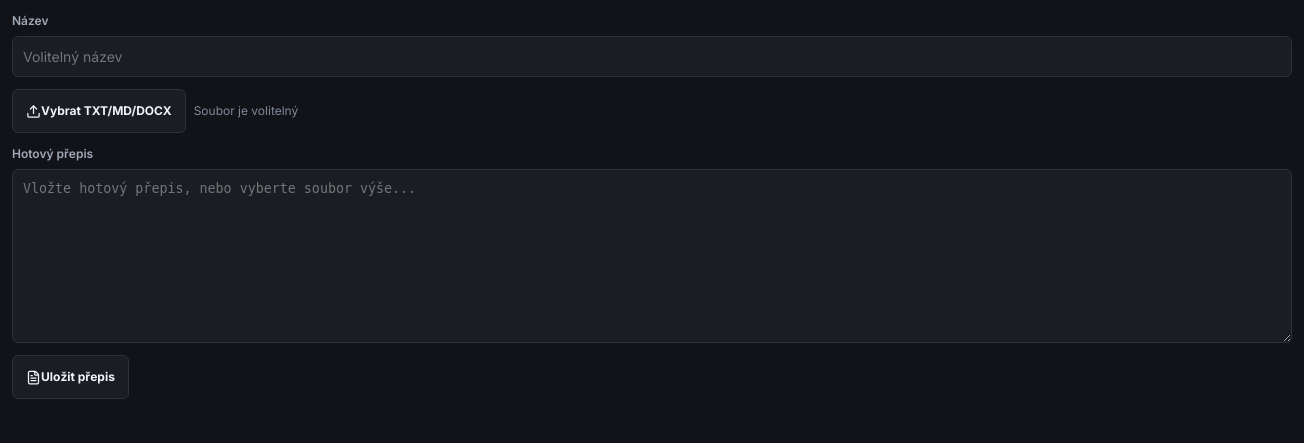
Test: transcript search warning contract › keeps an imported transcript successful and carries its warning to the detail
Type "Uložený přepis" into the text box named "rawText" at point(652, 256), box [12,169,1292,343]
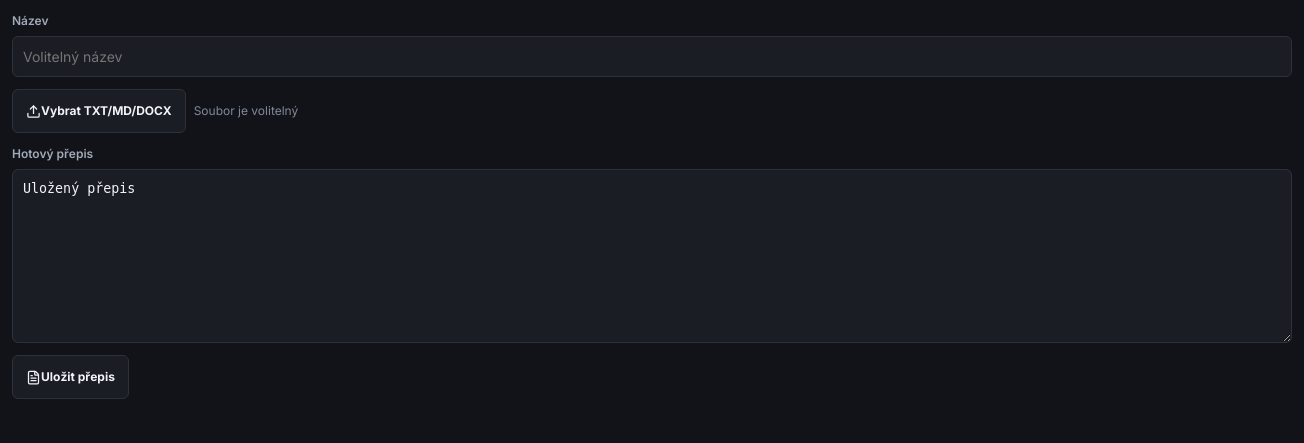
Submit the form
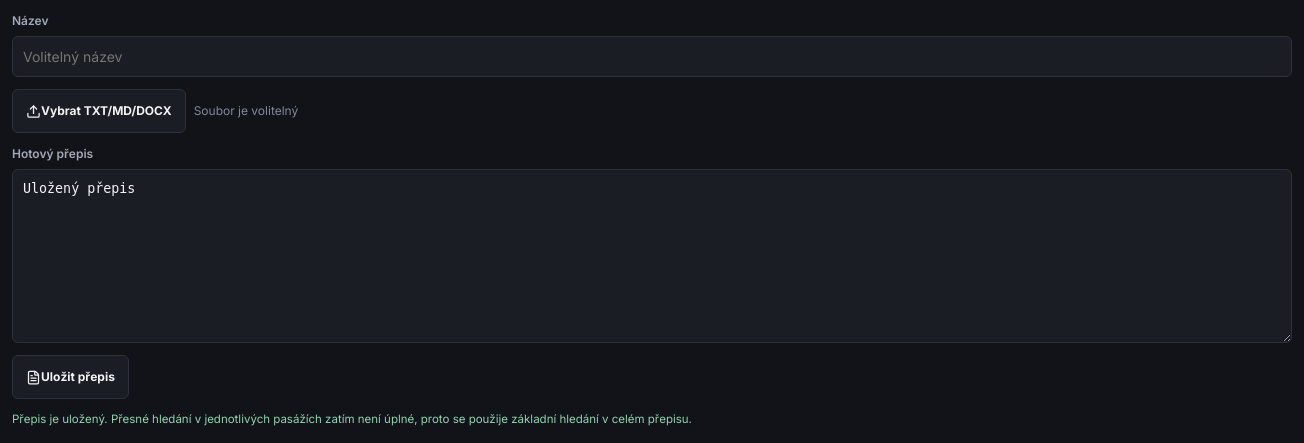
Now the message shows "Přepis je uložený. Přesné hledání v jednotlivých pasážích zatím není úplné, proto se použije základní hledání v celém přepisu.", box [12,412,692,426]
